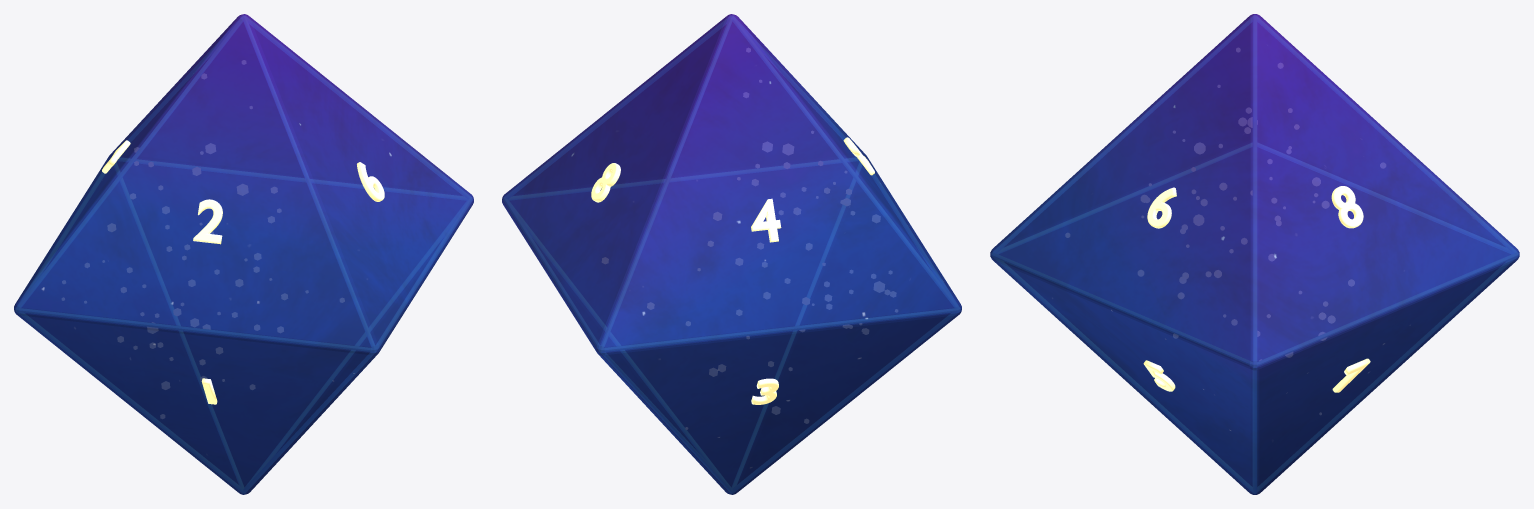
The model's file is D8_八面骰_星穹_baked.glb.
3 renders of one model, left to right at view 1: azimuth 30°, elevation 25°; view 2: azimuth 150°, elevation 25°; view 3: azimuth 270°, elevation 25°, orthographic.
Visible parts, largest first — view 1: D8_Body_8_Faces, D8_Galaxy_Clean_Edge_Divider_v6, D8_Clustered_StarDust_v5, D8_Face_02_2, D8_Face_06_6; view 2: D8_Body_8_Faces, D8_Galaxy_Clean_Edge_Divider_v6, D8_Clustered_StarDust_v5, D8_Face_04_4, D8_Face_08_8, D8_Face_03_3; view 3: D8_Body_8_Faces, D8_Galaxy_Clean_Edge_Divider_v6, D8_Clustered_StarDust_v5, D8_Face_08_8, D8_Face_06_6.
Part boxes in pixels (x1=…): D8_Body_8_Faces: x1=14, y1=14, x2=473, y2=494; D8_Galaxy_Clean_Edge_Divider_v6: x1=16, y1=16, x2=471, y2=492; D8_Clustered_StarDust_v5: x1=62, y1=60, x2=344, y2=418; D8_Face_02_2: x1=193, y1=199, x2=222, y2=244; D8_Face_06_6: x1=357, y1=162, x2=384, y2=201; D8_Body_8_Faces: x1=502, y1=14, x2=961, y2=494; D8_Galaxy_Clean_Edge_Divider_v6: x1=504, y1=16, x2=959, y2=492; D8_Clustered_StarDust_v5: x1=602, y1=48, x2=897, y2=428; D8_Face_04_4: x1=751, y1=198, x2=781, y2=242; D8_Face_08_8: x1=591, y1=163, x2=620, y2=202; D8_Face_03_3: x1=751, y1=378, x2=778, y2=404; D8_Body_8_Faces: x1=990, y1=14, x2=1519, y2=494; D8_Galaxy_Clean_Edge_Divider_v6: x1=992, y1=15, x2=1517, y2=493; D8_Clustered_StarDust_v5: x1=1066, y1=48, x2=1385, y2=414; D8_Face_08_8: x1=1331, y1=186, x2=1363, y2=228; D8_Face_06_6: x1=1147, y1=187, x2=1176, y2=228.
Bounding box in the file's own units: 3.91 × 3.91 × 3.91.
4 materials, 1 textured.
